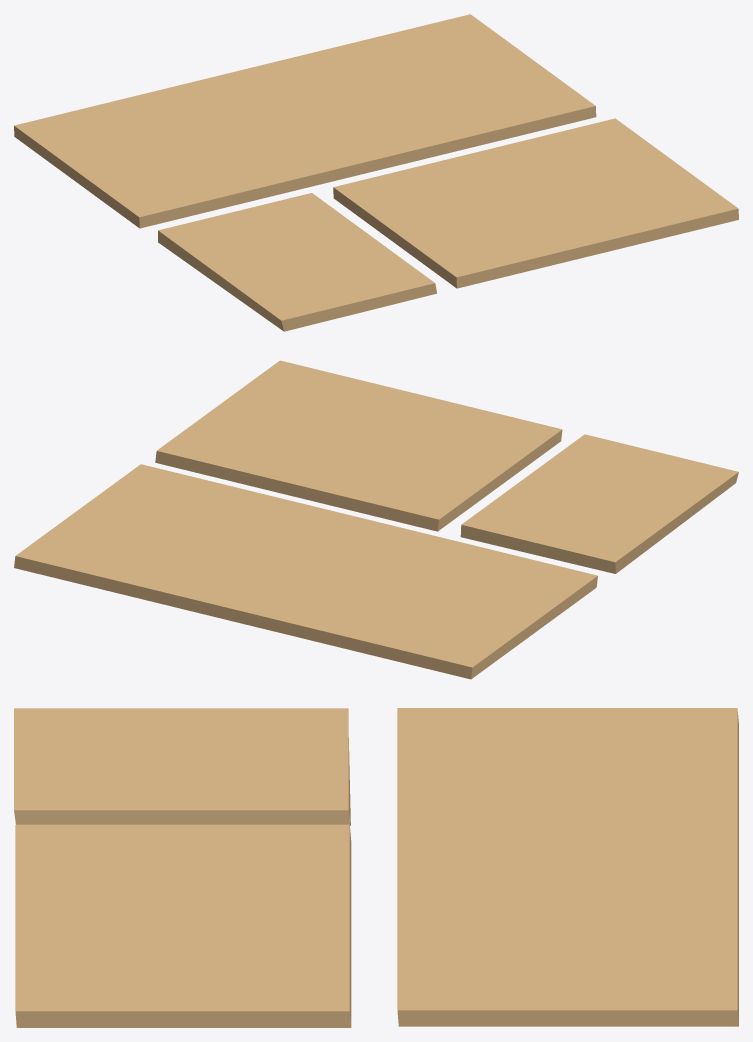
The model's file is dalle2.fbx.
3 renders of one model, top to bottom at view 1: azimuth 30°, elevation 25°; view 2: azimuth 150°, elevation 25°; view 3: azimuth 270°, elevation 25°, orthographic. The views are drawn at different scales.
Parts seen in each view (by area): view 1: Cube.003, Cube.001, Cube.002; view 2: Cube.003, Cube.001, Cube.002; view 3: Cube.003, Cube.001, Cube.002.
Part boxes in pixels (x1,y1,x2,y2): Cube.003: (14,14,596,228); Cube.001: (333,118,738,288); Cube.002: (158,193,436,331); Cube.003: (14,464,597,679); Cube.001: (155,360,562,531); Cube.002: (460,434,738,573); Cube.003: (397,708,738,1026); Cube.001: (15,824,351,1027); Cube.002: (14,708,350,825).
Bounding box in the file's own units: 192 × 4.7 × 193.
